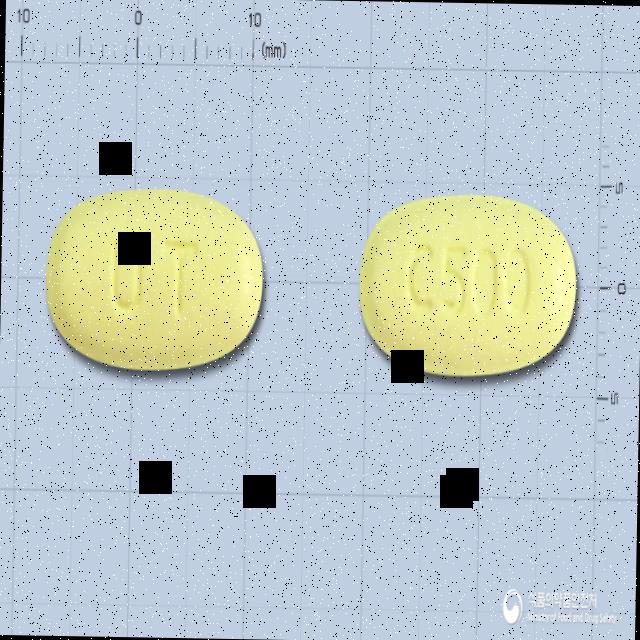Claxin: (43, 182, 267, 378), (356, 187, 582, 381)
